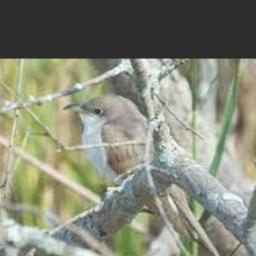Cuckoo: (62, 96, 213, 248)
